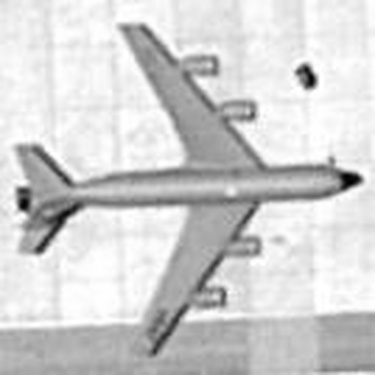airplane: (7, 16, 363, 359)
